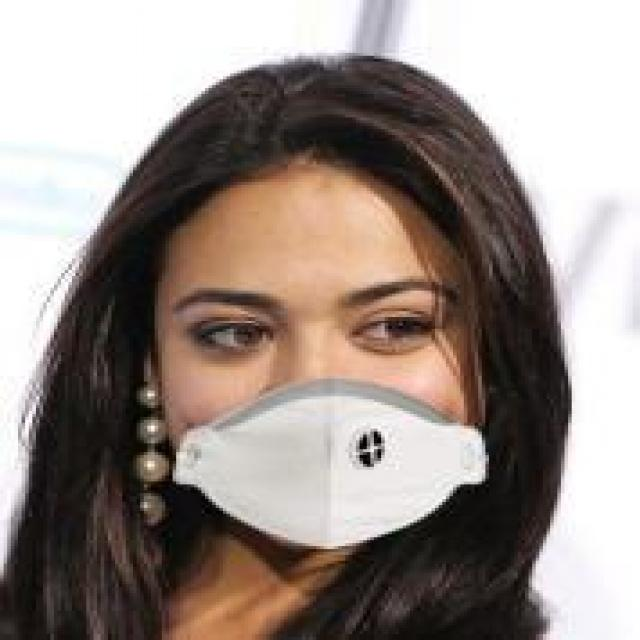mask: (90, 35, 586, 570)
